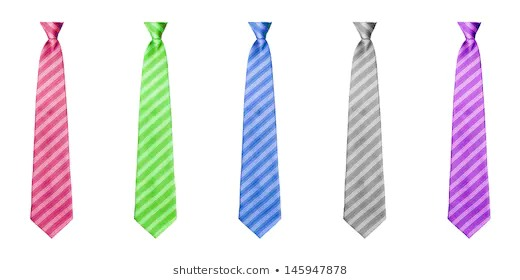F_tie: (333, 16, 402, 249), (19, 17, 88, 246), (227, 14, 291, 246), (441, 15, 503, 246), (130, 15, 189, 245)
